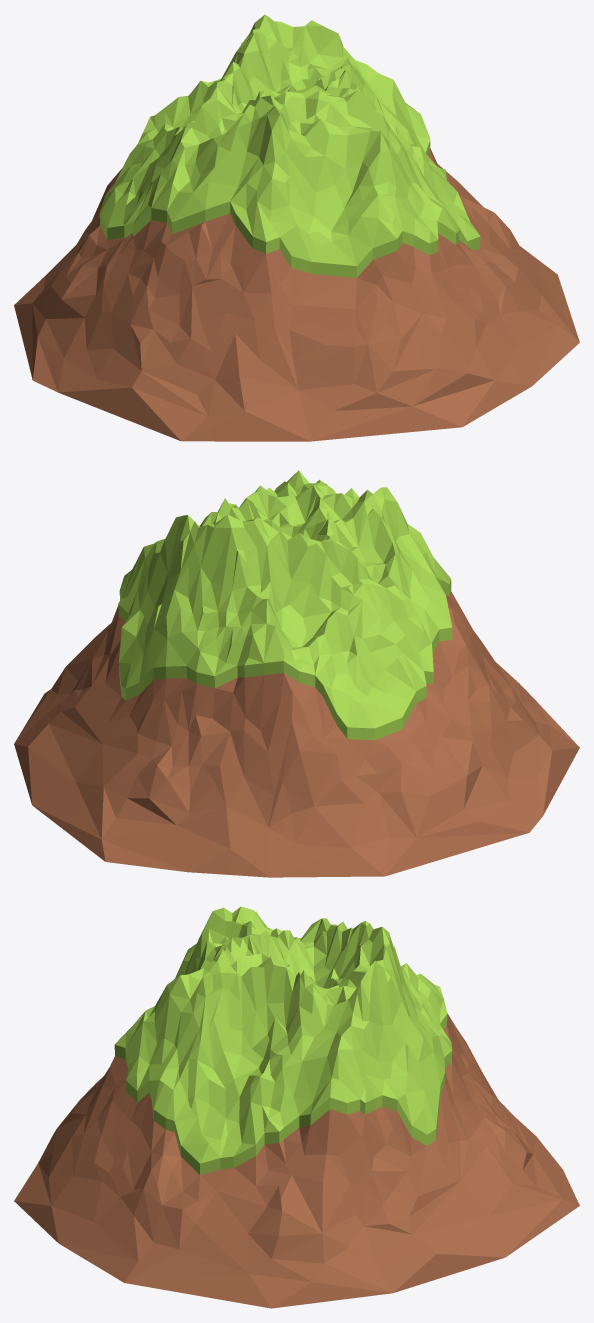
The model's file is BlenderMountain.fbx.
3 renders of one model, top to bottom at view 1: azimuth 30°, elevation 25°; view 2: azimuth 150°, elevation 25°; view 3: azimuth 270°, elevation 25°, orthographic. The views are drawn at different scales.
Visible parts, largest first — view 1: PP_Forest_Mountain_Moss_02; view 2: PP_Forest_Mountain_Moss_02; view 3: PP_Forest_Mountain_Moss_02.
Part boxes in pixels (box(x1,y1,x2,y2)): PP_Forest_Mountain_Moss_02: box(14, 14, 579, 441); PP_Forest_Mountain_Moss_02: box(14, 470, 579, 877); PP_Forest_Mountain_Moss_02: box(14, 906, 579, 1308).
Size of the model in its own units: 4042 by 2130 by 4042.
1 material, 1 textured.
